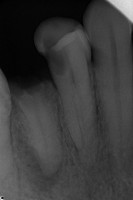Furcation Involvement: (21, 146, 63, 191)
